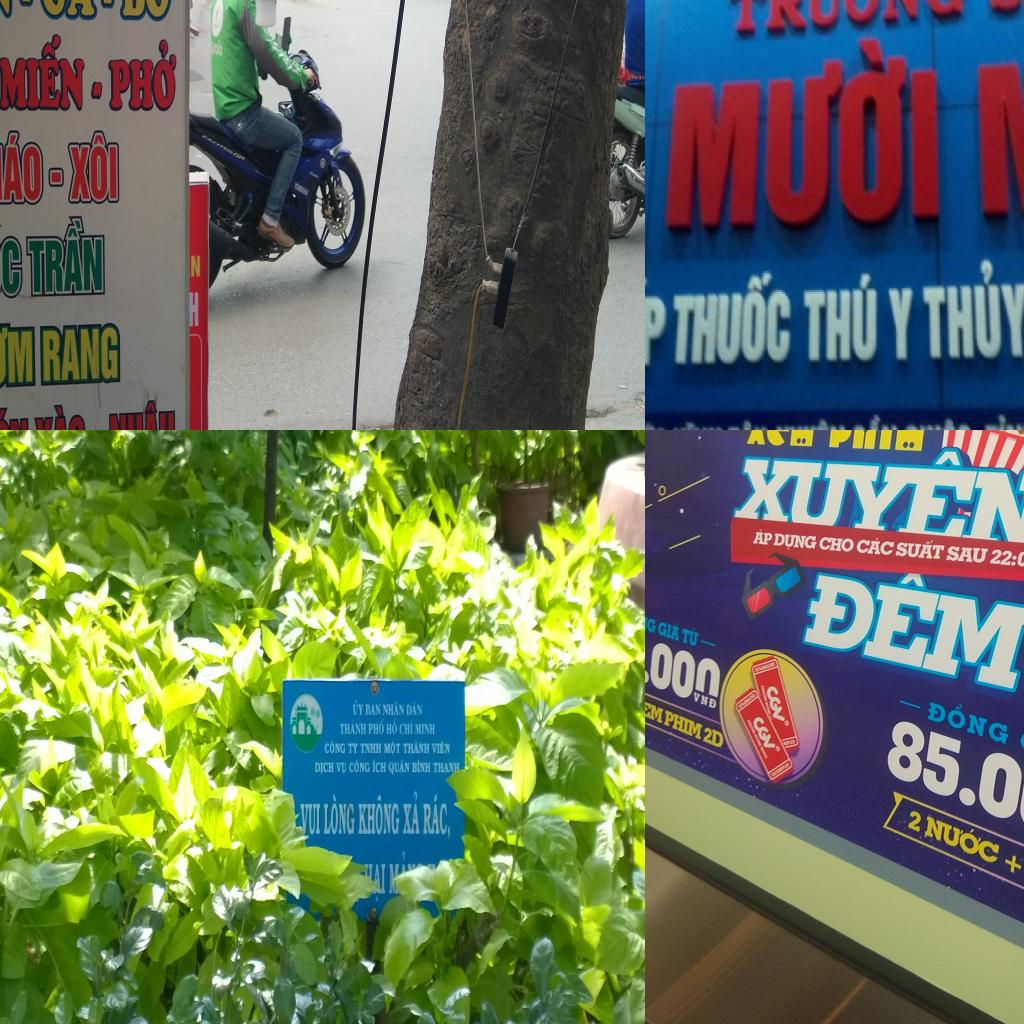text: (666, 30, 942, 237), (799, 560, 1024, 693), (732, 445, 1024, 546), (881, 718, 1024, 860), (671, 271, 798, 368), (920, 258, 1024, 366), (726, 0, 967, 38), (798, 271, 882, 366), (23, 215, 106, 298), (645, 623, 723, 711), (0, 33, 84, 111), (107, 36, 181, 114), (40, 322, 121, 386), (925, 697, 1012, 746), (65, 128, 120, 205), (923, 812, 1002, 865), (0, 126, 43, 205), (0, 317, 36, 391), (885, 286, 917, 366), (645, 275, 670, 370), (105, 398, 176, 430), (828, 430, 926, 450), (0, 222, 23, 300), (358, 794, 400, 836), (201, 131, 248, 163), (32, 404, 86, 430), (114, 0, 173, 23), (324, 793, 355, 836), (423, 793, 451, 840), (37, 0, 98, 21), (663, 710, 703, 740), (745, 430, 815, 447), (903, 415, 982, 430), (775, 415, 849, 430), (896, 538, 945, 559), (751, 716, 777, 749), (773, 533, 818, 552), (851, 413, 900, 430), (854, 536, 895, 556), (946, 546, 991, 564), (402, 791, 420, 835), (765, 686, 787, 722), (984, 413, 1024, 430), (300, 802, 320, 835), (818, 536, 855, 553), (655, 618, 681, 642), (725, 418, 772, 430), (645, 696, 664, 724), (702, 726, 725, 749), (681, 624, 702, 648), (670, 421, 724, 430), (188, 290, 200, 329), (339, 720, 366, 736), (694, 692, 718, 710), (1003, 853, 1022, 875), (433, 761, 460, 776), (388, 759, 411, 776), (323, 738, 346, 754), (907, 810, 923, 833), (403, 740, 429, 754), (383, 701, 405, 717), (360, 740, 382, 756), (752, 530, 774, 546), (645, 605, 657, 634), (292, 180, 310, 198), (384, 740, 402, 758), (189, 254, 202, 278), (368, 718, 385, 736), (315, 761, 335, 776), (411, 759, 431, 774), (210, 36, 224, 57), (406, 701, 424, 717), (414, 722, 436, 735), (400, 718, 415, 737), (349, 760, 370, 773), (432, 740, 451, 754), (352, 698, 365, 717), (386, 718, 399, 736), (372, 759, 387, 774), (366, 703, 381, 716), (336, 761, 347, 776), (347, 741, 359, 753), (621, 61, 625, 71), (631, 72, 634, 79)
